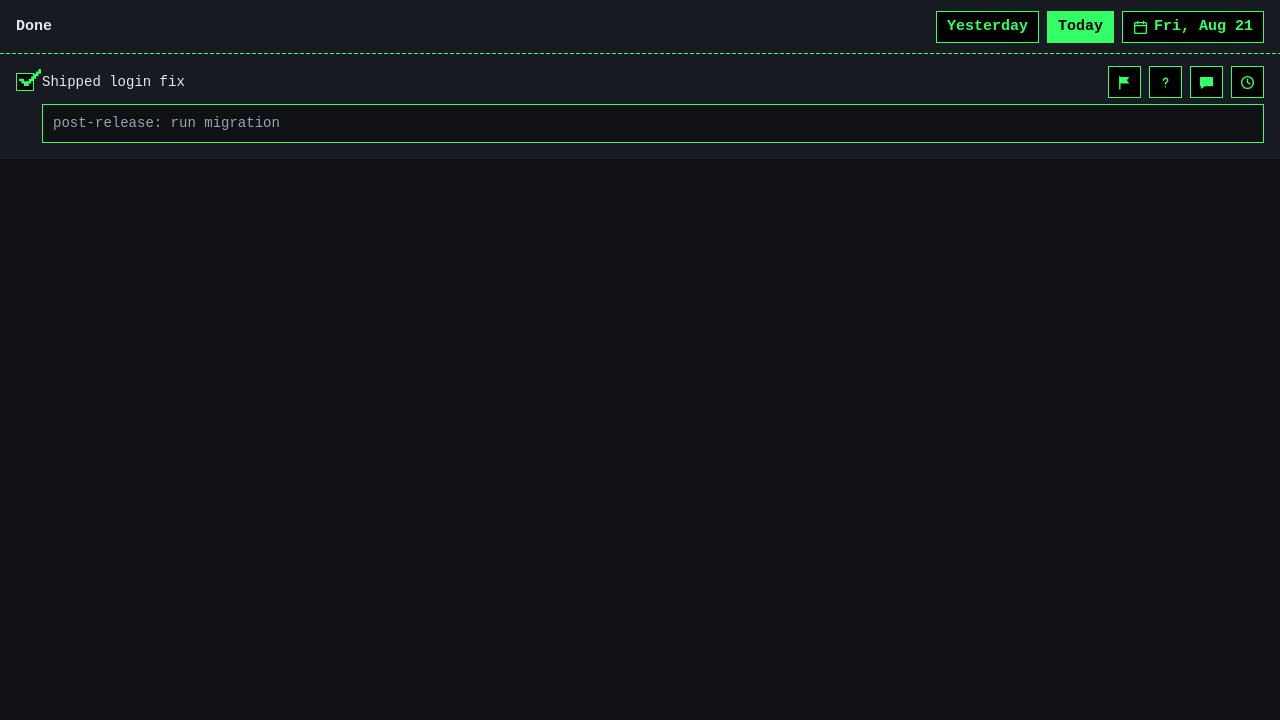
DoneLogBox › switches to another day via the calendar picker
Step 1. Click the button with aria-label "Pick day" → click(1193, 27), box [1122,11,1264,43]
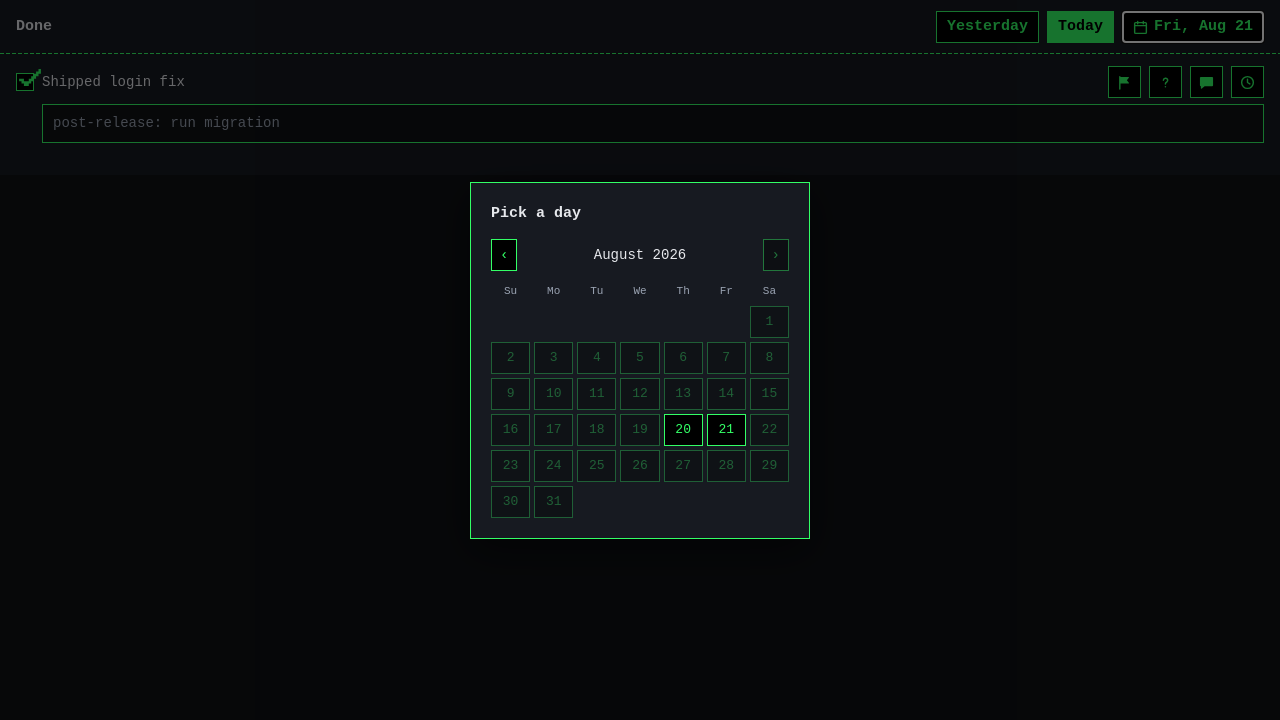
Step 2. Click the button "20" → click(683, 430), box [664,414,703,446]
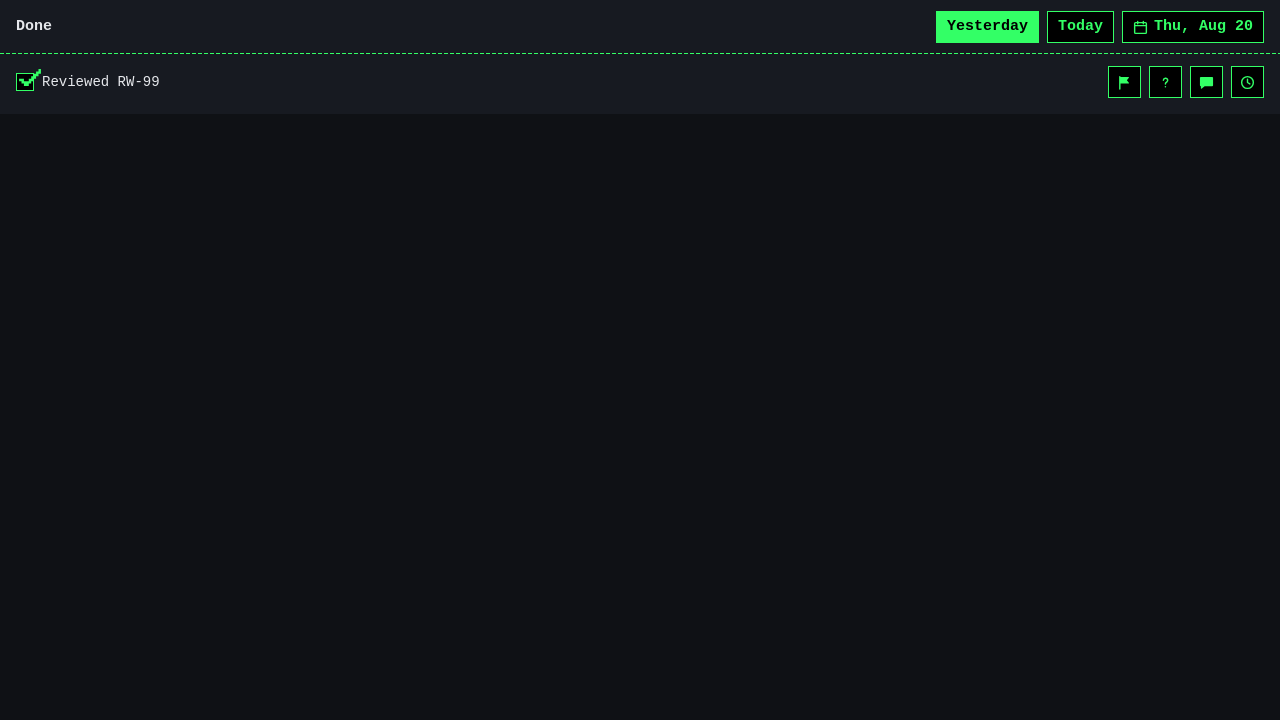
Result: the text "Shipped login fix" is gone
Result: the text "Reviewed RW-99" is shown at [42,74,160,90]
